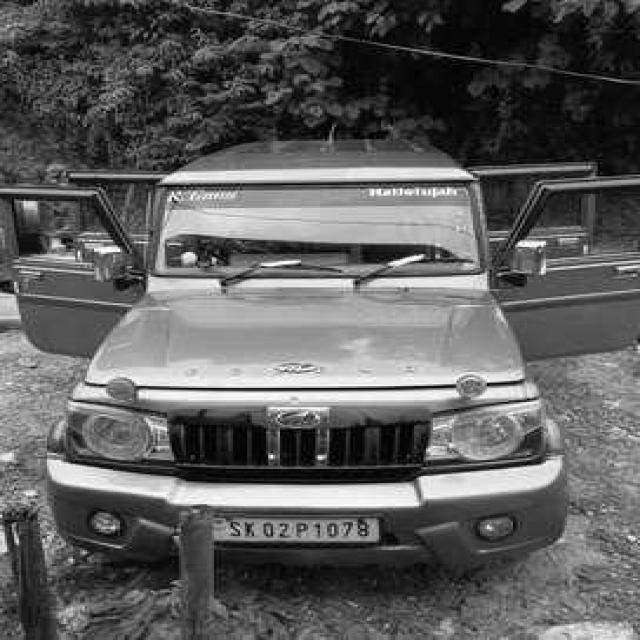car: (42, 140, 584, 570)
license-plate: (210, 512, 383, 548)
